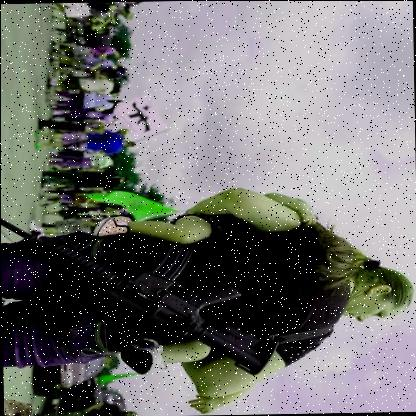rifle: (2, 203, 284, 383)
